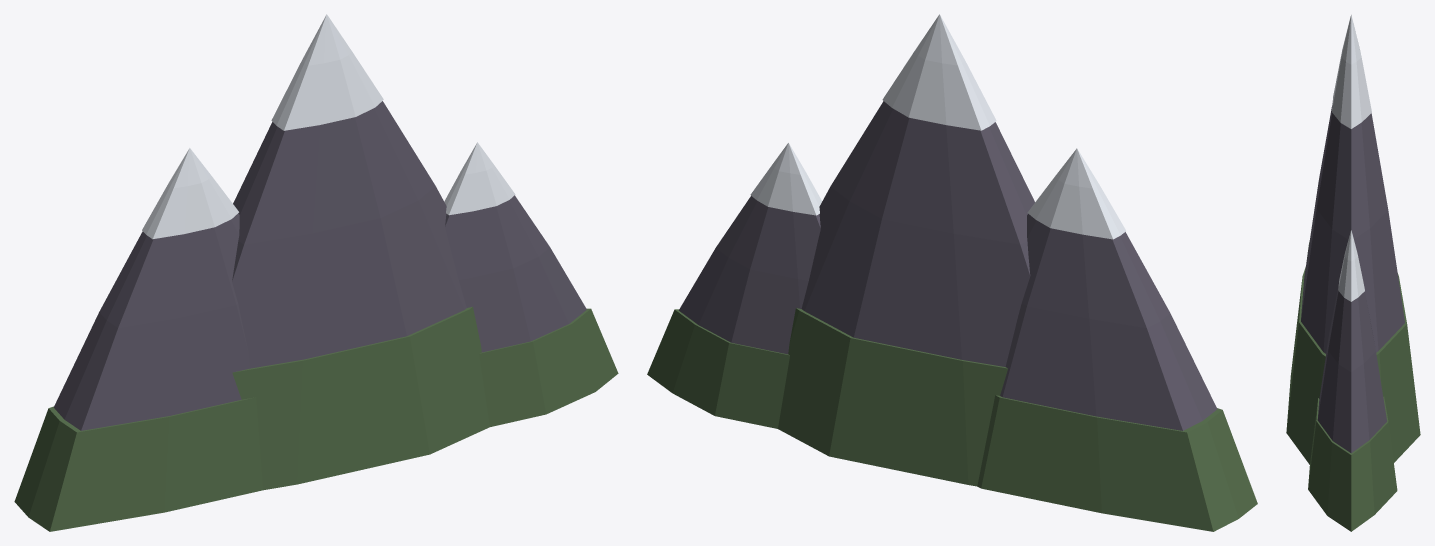
The model's file is mountain.glb.
The picture shows the model from 3 angles, left to right: view 1: azimuth 30°, elevation 25°; view 2: azimuth 150°, elevation 25°; view 3: azimuth 270°, elevation 25°; orthographic projection. The views are drawn at different scales.
Parts seen in each view (by area): view 1: MountainB, MountainA; view 2: MountainB, MountainA; view 3: MountainA, MountainB.
Part boxes in pixels (left/top/right/bottom): MountainB: left=14, top=142, right=618, bottom=531; MountainA: left=232, top=14, right=489, bottom=490; MountainB: left=647, top=143, right=1257, bottom=531; MountainA: left=778, top=14, right=1034, bottom=486; MountainA: left=1286, top=15, right=1420, bottom=464; MountainB: left=1307, top=230, right=1397, bottom=531.
Bounding box in the file's own units: 431 × 300 × 93.89.
